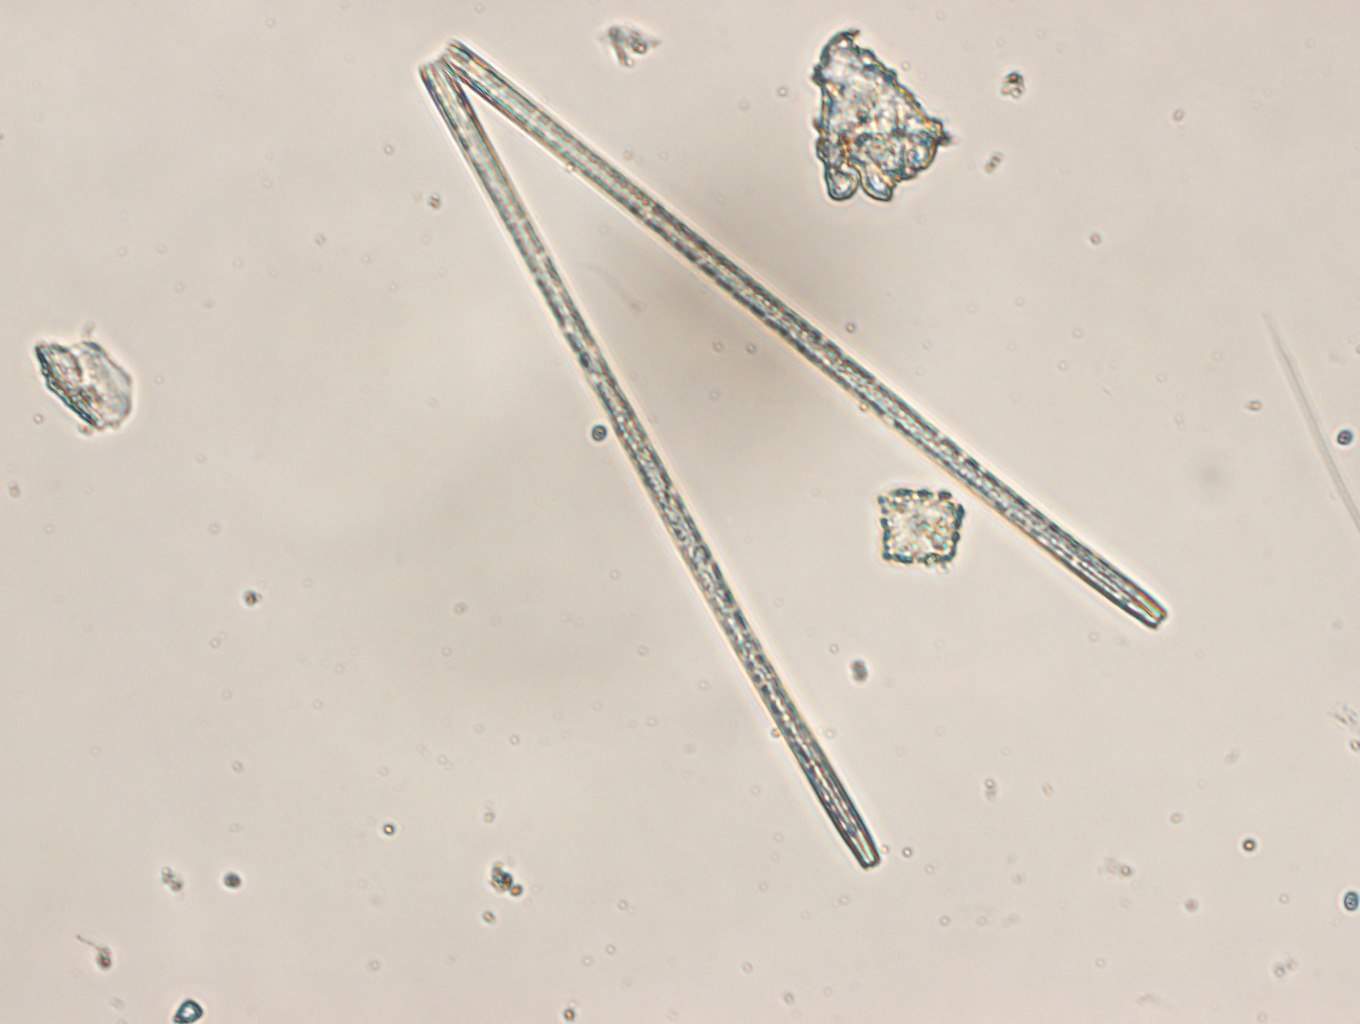thalassionema frauenfeldii: (417, 35, 1171, 872)
